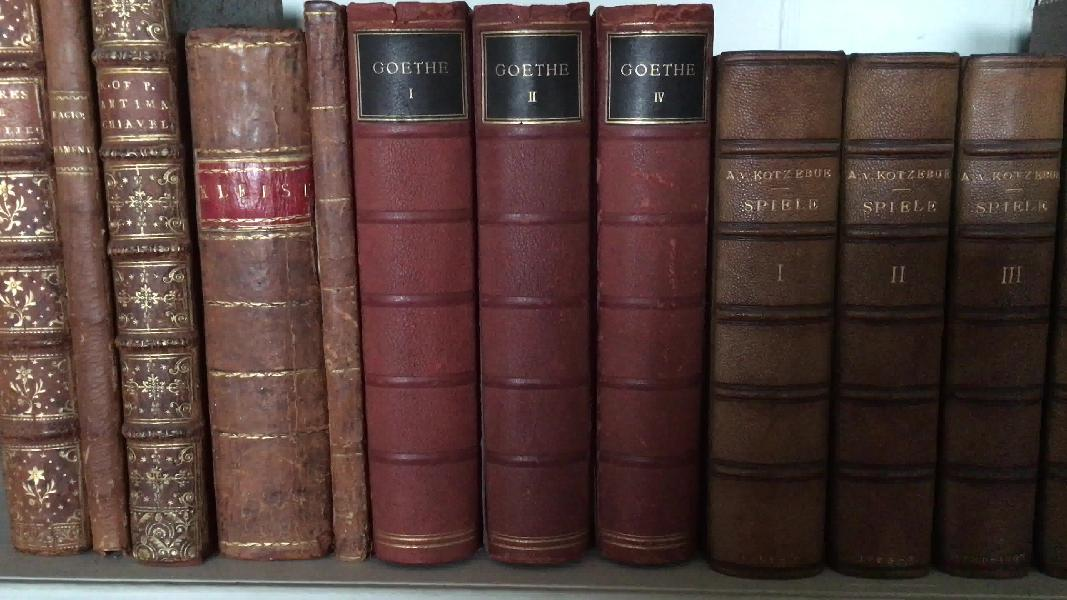Aa6-10: (301, 1, 376, 572)
Aa6-11_13: (337, 1, 717, 582)
Aa6-14_17: (710, 45, 1067, 583)
Aa6-6: (1, 1, 85, 552)
Aa6-7: (34, 1, 142, 560)
Aa6-8: (91, 3, 221, 563)
Aa6-9: (176, 31, 336, 560)
